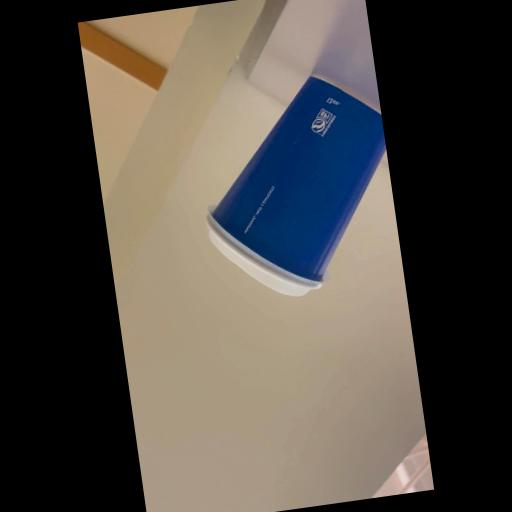lp_paper_cup: (178, 58, 405, 312)
